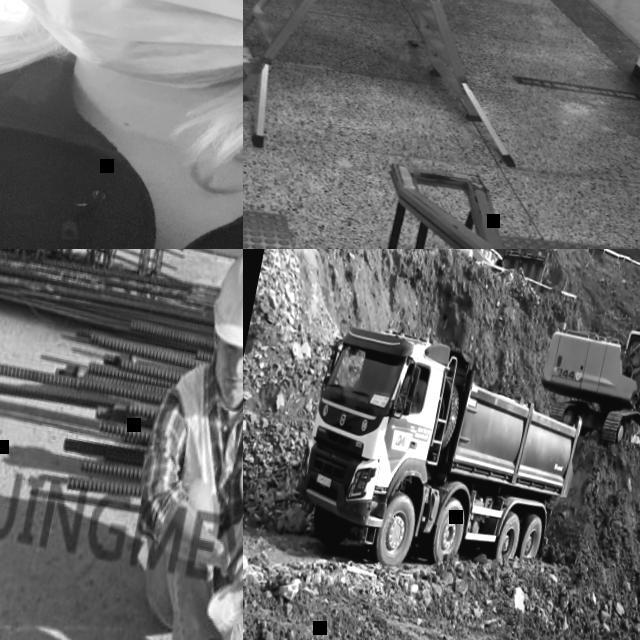helmet: (204, 249, 243, 360)
vest: (136, 349, 243, 593)
